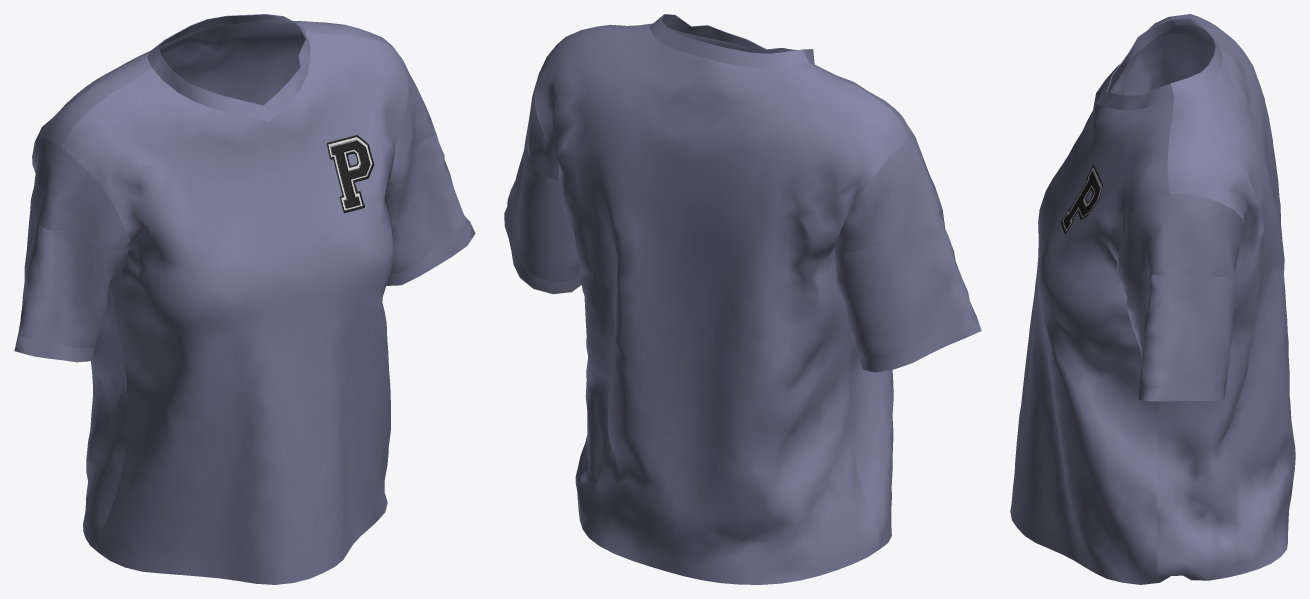
The picture shows the model from 3 angles, left to right: view 1: azimuth 30°, elevation 25°; view 2: azimuth 150°, elevation 25°; view 3: azimuth 270°, elevation 25°; orthographic projection. The views are drawn at different scales.
Visible parts, largest first — view 1: Pattern2D_482616, Pattern2D_487092, Pattern2D_200717, Pattern2D_203654, Pattern2D_200916, MatShape_14349, Pattern2D_203397, Pattern2D_3805017, Pattern2D_193312, Pattern2D_190946, Pattern2D_3805002, Pattern2D_3805018; view 2: Pattern2D_487092, Pattern2D_200717, Pattern2D_482616, Pattern2D_200916, Pattern2D_203654, Pattern2D_3805002, Pattern2D_190946, Pattern2D_203397, Pattern2D_3805018, Pattern2D_193312; view 3: Pattern2D_482616, Pattern2D_487092, Pattern2D_203654, Pattern2D_203397, Pattern2D_200916, Pattern2D_193312, Pattern2D_3805002, Pattern2D_3805018, MatShape_14349, Pattern2D_3805017.
Boxes of the visible parts, x1,y1,x2,y2 form: Pattern2D_482616: [62, 30, 408, 584]; Pattern2D_487092: [35, 20, 394, 552]; Pattern2D_200717: [18, 211, 128, 348]; Pattern2D_203654: [384, 132, 469, 273]; Pattern2D_200916: [30, 138, 130, 250]; MatShape_14349: [326, 135, 374, 213]; Pattern2D_203397: [387, 62, 435, 185]; Pattern2D_3805017: [152, 57, 268, 121]; Pattern2D_193312: [386, 222, 475, 285]; Pattern2D_190946: [14, 333, 96, 362]; Pattern2D_3805002: [147, 14, 298, 67]; Pattern2D_3805018: [263, 24, 310, 121]; Pattern2D_487092: [535, 23, 908, 584]; Pattern2D_200717: [833, 210, 976, 358]; Pattern2D_482616: [615, 25, 914, 548]; Pattern2D_200916: [834, 137, 942, 253]; Pattern2D_203654: [506, 144, 580, 282]; Pattern2D_3805002: [649, 14, 808, 68]; Pattern2D_190946: [858, 316, 981, 372]; Pattern2D_203397: [525, 59, 559, 180]; Pattern2D_3805018: [661, 14, 768, 53]; Pattern2D_193312: [504, 207, 581, 294]; Pattern2D_482616: [1010, 16, 1174, 584]; Pattern2D_487092: [1156, 14, 1295, 582]; Pattern2D_203654: [1117, 272, 1235, 386]; Pattern2D_203397: [1117, 194, 1244, 277]; Pattern2D_200916: [1123, 32, 1215, 95]; Pattern2D_193312: [1137, 384, 1226, 401]; Pattern2D_3805002: [1170, 17, 1222, 96]; Pattern2D_3805018: [1096, 83, 1174, 110]; MatShape_14349: [1061, 165, 1102, 234]; Pattern2D_3805017: [1096, 19, 1175, 102].
Bounding box in the file's own units: 52.2 × 52.66 × 28.38.
